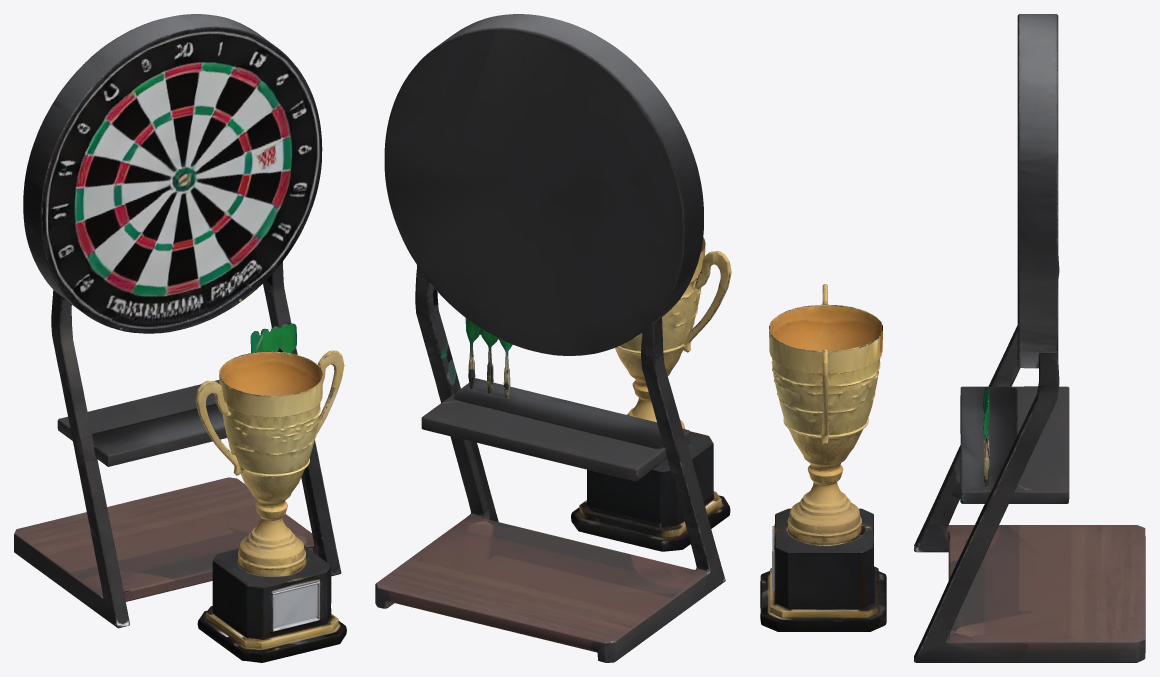
File: piagam-baru.opt.glb
3 renders of one model, left to right at view 1: azimuth 30°, elevation 25°; view 2: azimuth 150°, elevation 25°; view 3: azimuth 270°, elevation 25°, orthographic. The views are drawn at different scales.
Bounding box in the file's own units: 1.05 × 1.9 × 1.15.
1 material, 1 textured.
